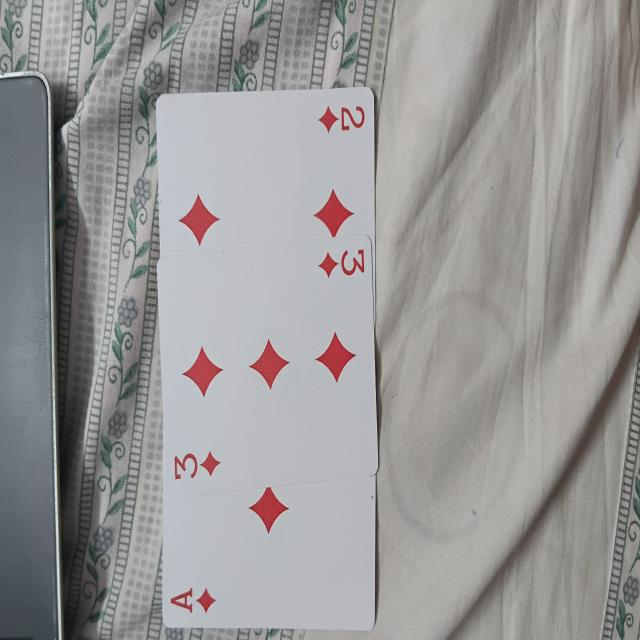3D: (162, 231, 380, 504)
